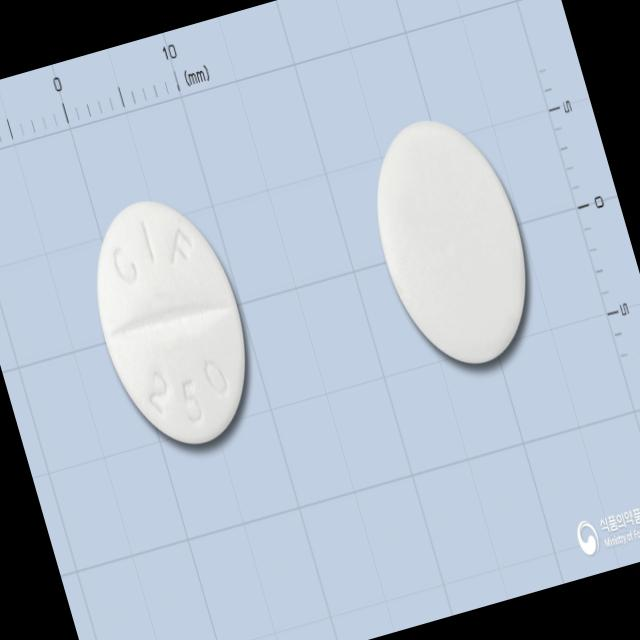Sinil Ciprofloxacin HCl Tab: (68, 180, 272, 463)
